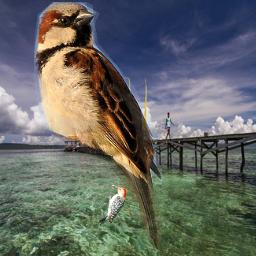Swallow: (33, 2, 162, 249)
Woodpecker: (96, 183, 126, 227)
